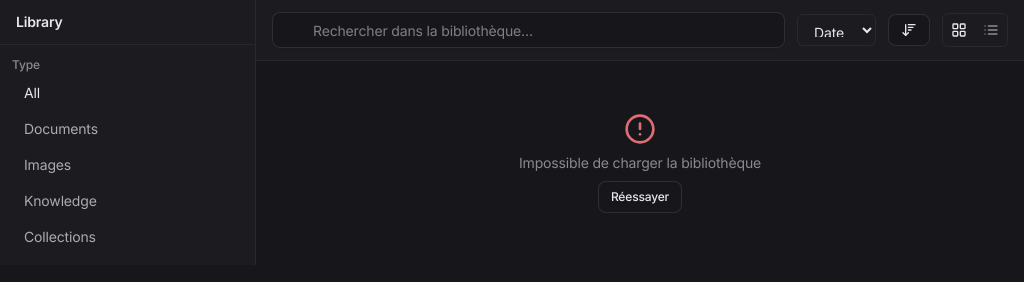
Test case: LibraryWorkspace — états honnêtes › erreur : message explicite + Réessayer relance la requête
The width and height of the screenshot is (1024, 282).
Check: the text "Impossible de charger la bibliothèque" is shown, box [519,153,761,173]
Click the button "Réessayer".
click(640, 197)  # box [598,181,682,213]
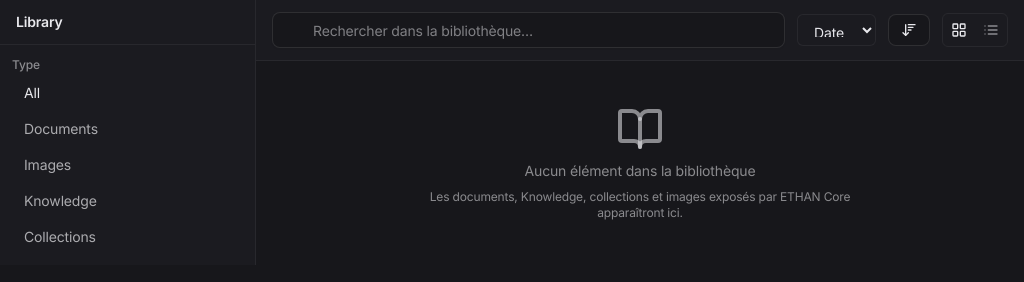
Check: the text "Aucun élément dans la bibliothèque" is shown, box [524,161,755,181]
